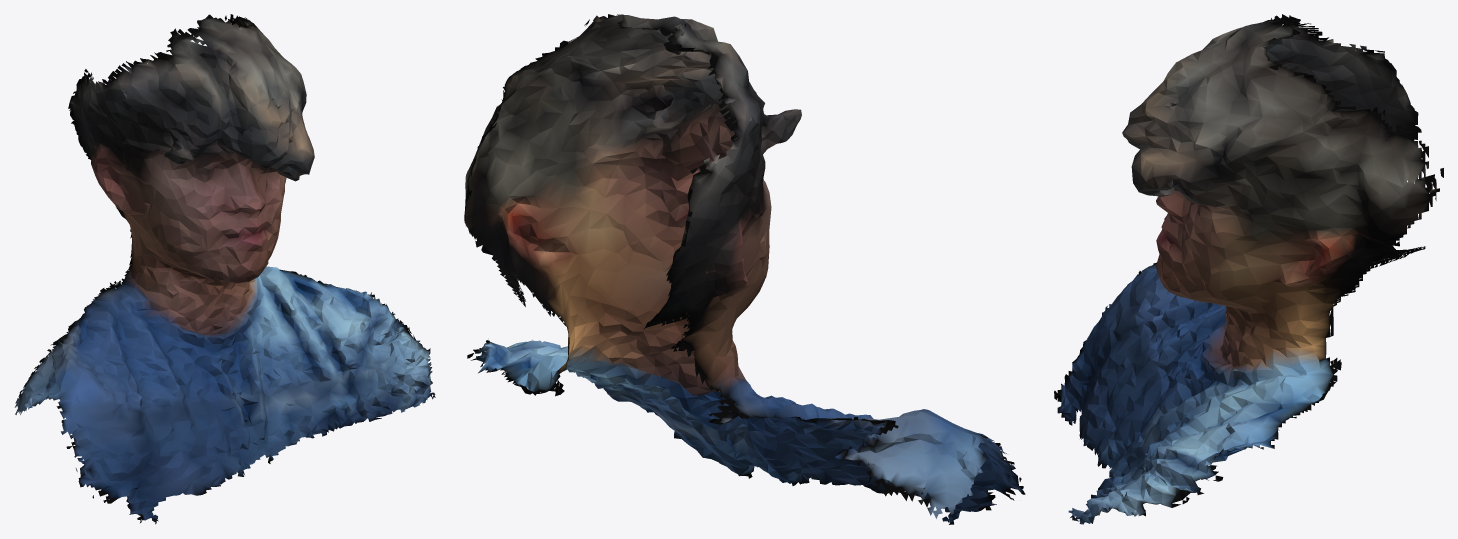
The model's file is 3d_scan_of_head_3.glb.
The picture shows the model from 3 angles, left to right: view 1: azimuth 30°, elevation 25°; view 2: azimuth 150°, elevation 25°; view 3: azimuth 270°, elevation 25°; orthographic projection. The views are drawn at different scales.
Parts seen in each view (by area): view 1: 1729826519.071272; view 2: 1729826519.071272; view 3: 1729826519.071272.
Part boxes in pixels (<box>): 1729826519.071272: <box>14,14,435,524</box>; 1729826519.071272: <box>464,14,1025,524</box>; 1729826519.071272: <box>1054,14,1443,524</box>.
Size of the model in its own units: 6.33 by 6.37 by 4.69.
